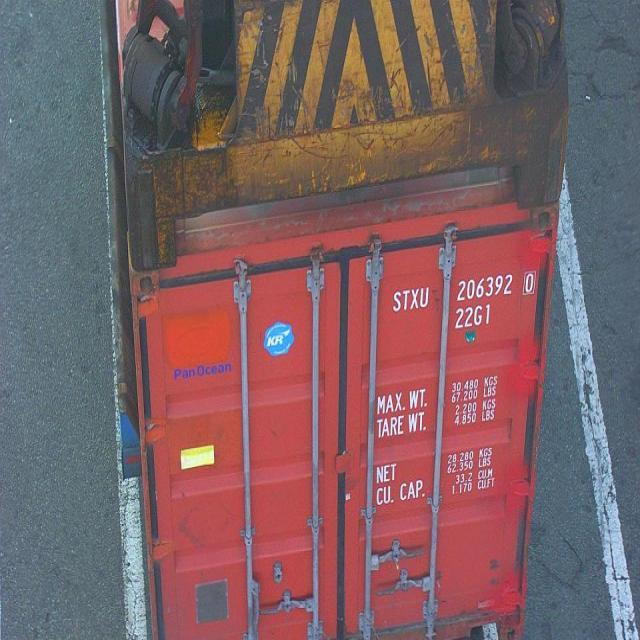ISO: (456, 304, 493, 328)
container_number: (394, 272, 539, 314)
